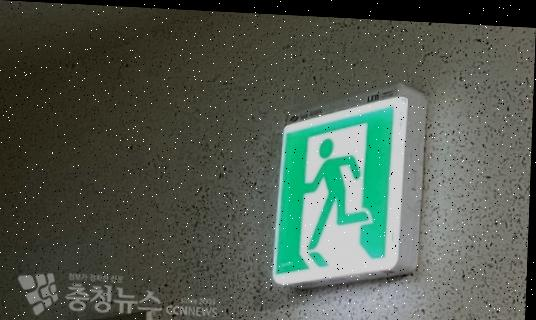emergency_exit: (271, 90, 423, 288)
